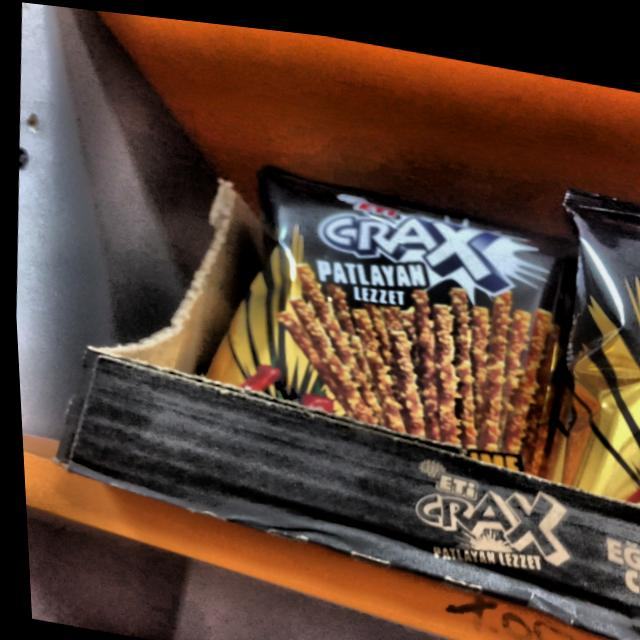Plastic: (188, 147, 577, 462)
